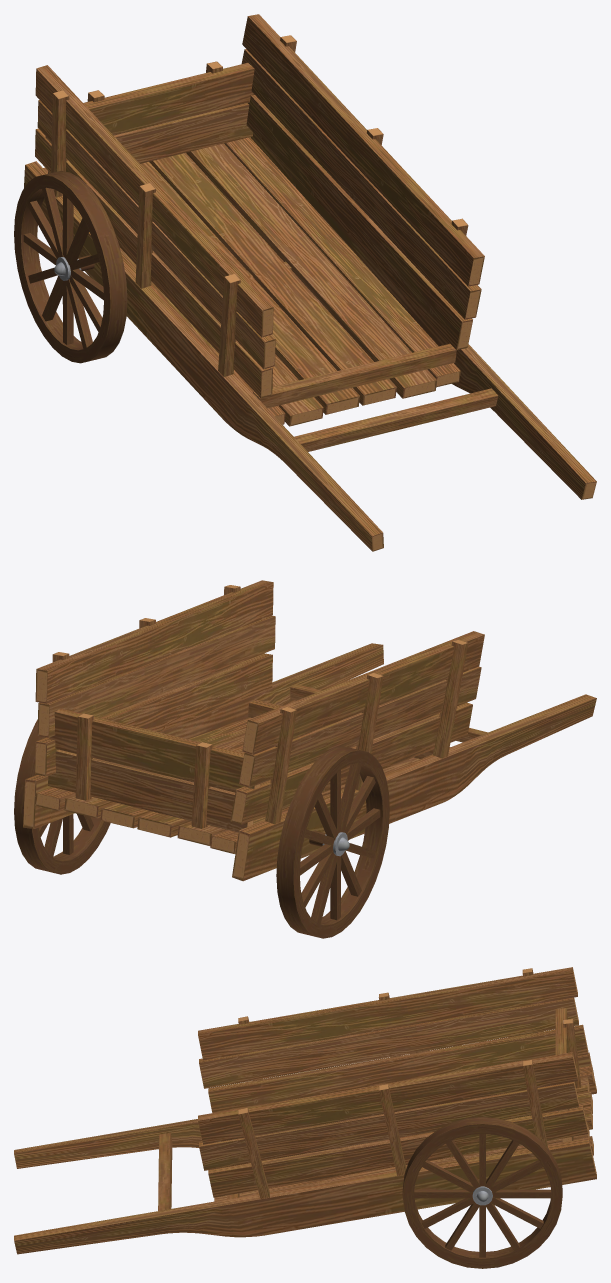
Rendered from Prop_Wagon.glb.
The picture shows the model from 3 angles, top to bottom: view 1: azimuth 30°, elevation 25°; view 2: azimuth 150°, elevation 25°; view 3: azimuth 270°, elevation 25°; orthographic projection. The views are drawn at different scales.
Parts seen in each view (by area): view 1: Prop_Wagon; view 2: Prop_Wagon; view 3: Prop_Wagon.
Boxes of the visible parts, box(x1,y1,x2,y2) form: Prop_Wagon: box(14, 14, 596, 551); Prop_Wagon: box(14, 580, 596, 938); Prop_Wagon: box(14, 967, 596, 1268).
Size of the model in its own units: 1.95 by 1.53 by 4.02.
Materials: 1 (1 with a texture image).
